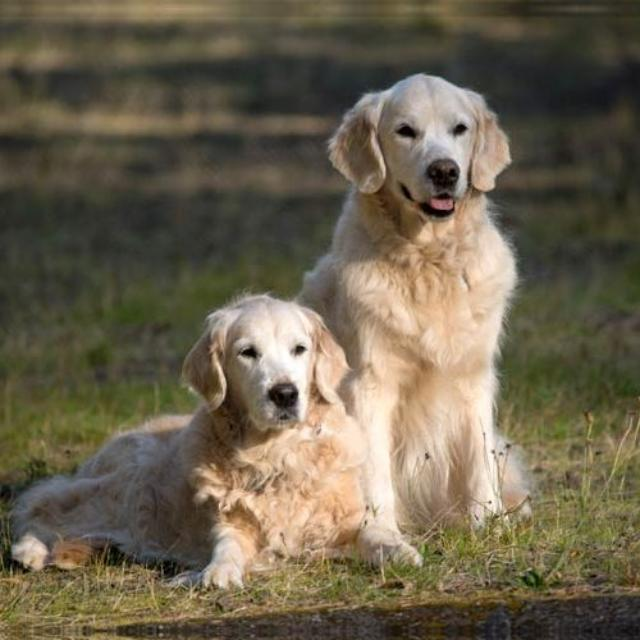dog: (316, 58, 558, 630), (44, 300, 353, 610), (316, 630, 558, 640)
